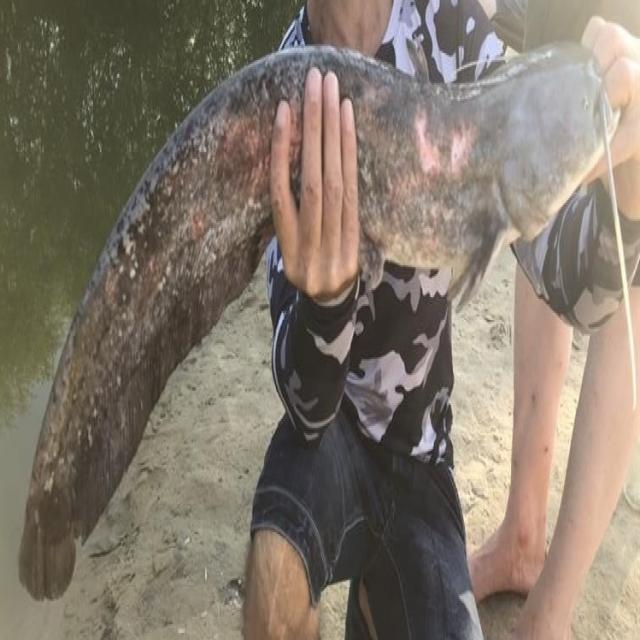Catfish: (19, 16, 640, 606)
